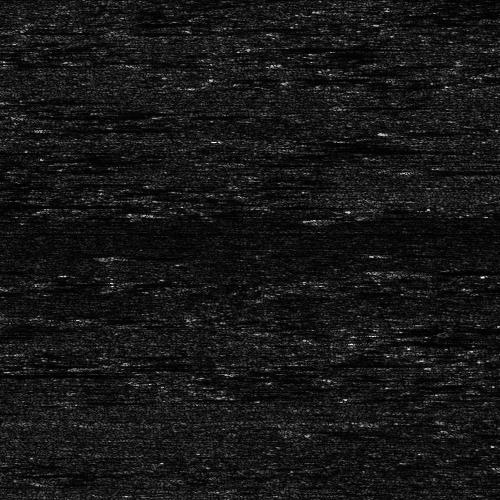rock: (351, 265, 444, 274), (3, 124, 66, 131), (426, 430, 499, 435), (241, 43, 304, 48), (399, 165, 462, 170), (469, 440, 500, 447), (0, 200, 22, 207)
shadow: (35, 124, 184, 131), (0, 200, 133, 207), (398, 265, 500, 274), (273, 43, 442, 48), (0, 369, 78, 378), (431, 165, 500, 170), (463, 430, 500, 435)
